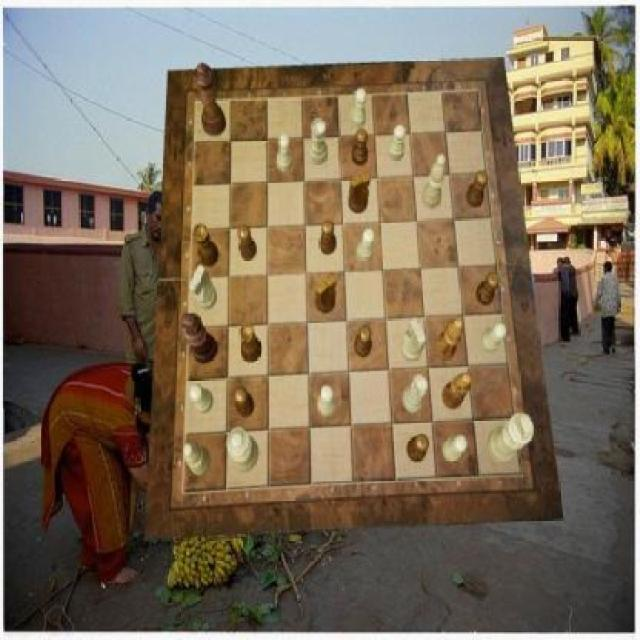bishop: (437, 316, 465, 360), (442, 372, 472, 410)
black-bishop: (180, 314, 219, 364)
black-king: (349, 171, 372, 213), (316, 274, 336, 314)
black-knight: (466, 169, 489, 207), (476, 271, 500, 305), (237, 224, 257, 260), (352, 129, 370, 167), (319, 220, 336, 256), (234, 388, 254, 418), (408, 434, 430, 461), (354, 324, 371, 358)
black-pawn: (194, 62, 226, 136)
black-queen: (194, 224, 218, 268), (240, 323, 263, 362)
black-rook: (423, 154, 446, 210), (184, 442, 212, 476)
white-bishop: (488, 414, 534, 466)
white-king: (189, 265, 217, 310), (402, 317, 426, 362)
white-knight: (482, 322, 508, 352), (190, 383, 214, 414), (350, 88, 368, 128), (443, 434, 468, 461), (357, 228, 375, 262), (388, 124, 405, 160), (277, 134, 293, 172), (319, 385, 336, 417)
white-pawn: (228, 428, 260, 473)
white-queen: (403, 375, 429, 414), (310, 120, 328, 166)
